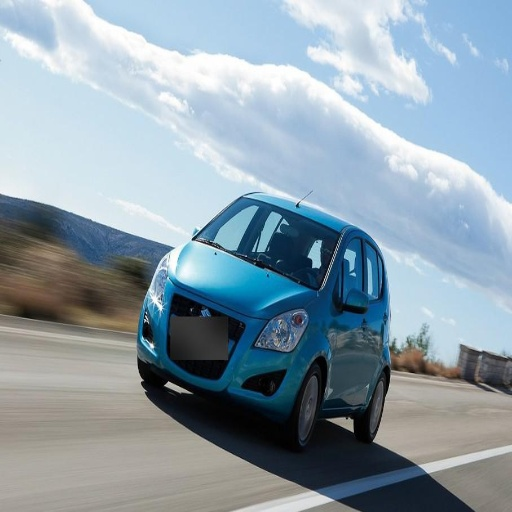front_bumper: (137, 285, 301, 414)
front_glass: (195, 201, 340, 288)
front_left_door: (331, 232, 367, 404)
